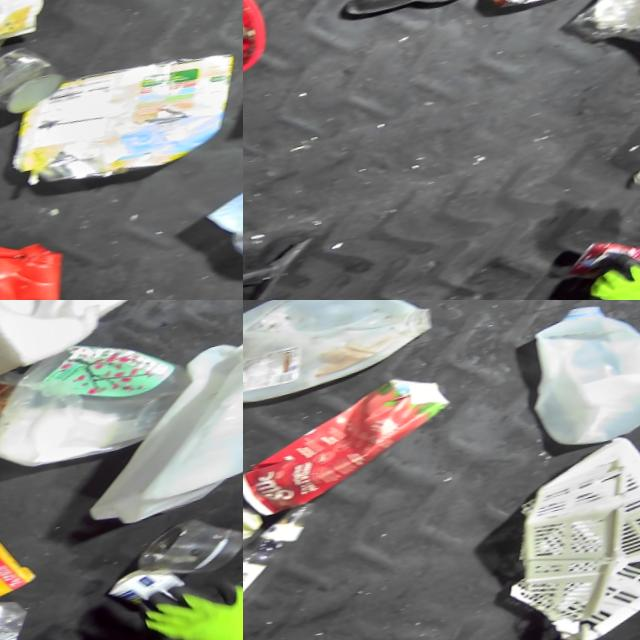can: (0, 38, 67, 127), (573, 231, 640, 285), (492, 0, 589, 16)
milk_jug: (63, 334, 243, 538), (243, 300, 447, 419), (523, 300, 640, 458)
non_white_jug: (243, 368, 464, 516), (0, 210, 83, 300)
plastic_bottle: (243, 496, 339, 624), (243, 490, 279, 605)
